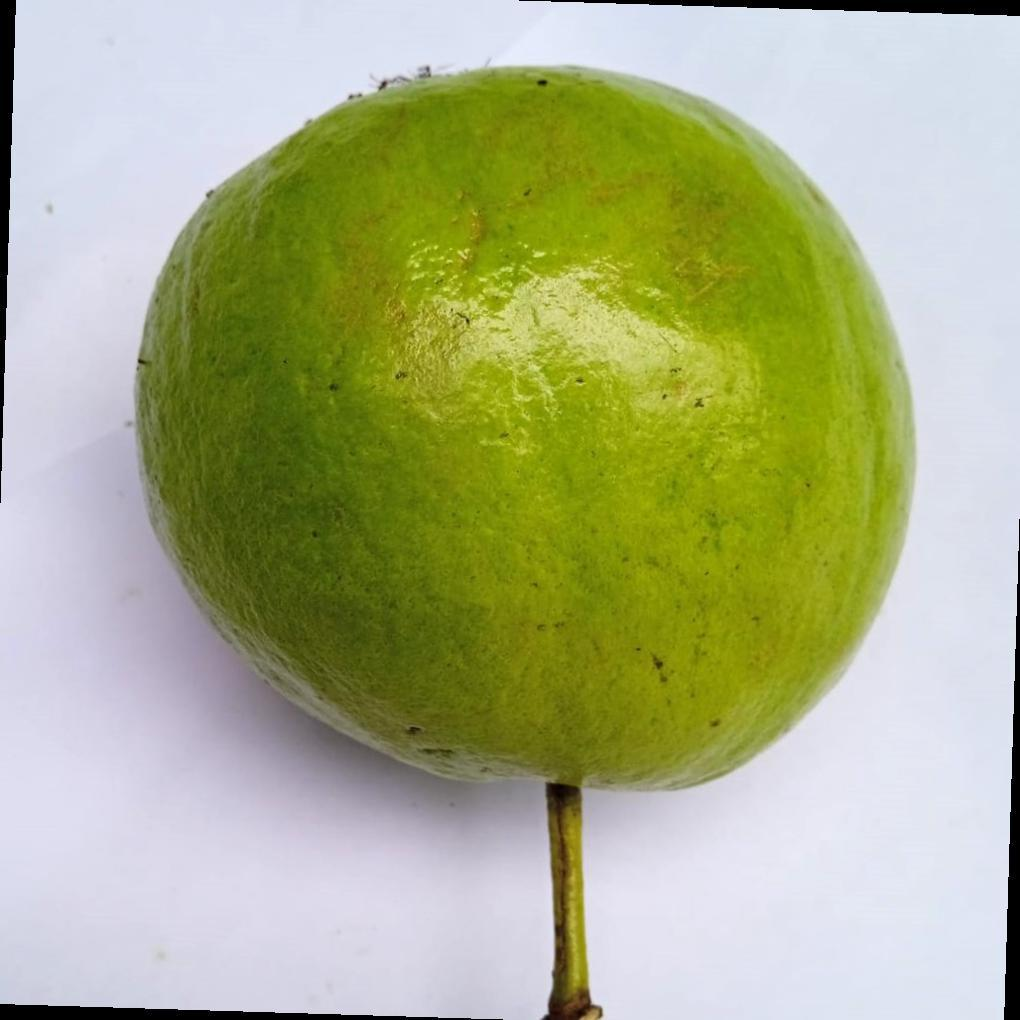FreshGuava: (133, 67, 918, 796)
